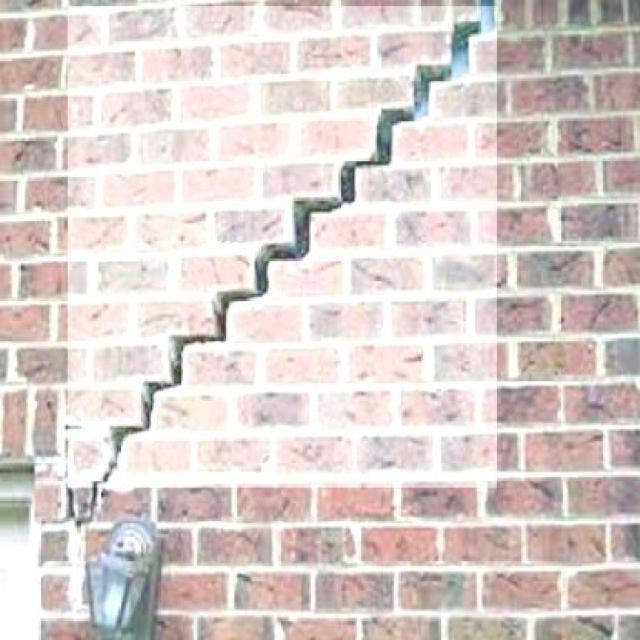Crack: (65, 2, 496, 488)
